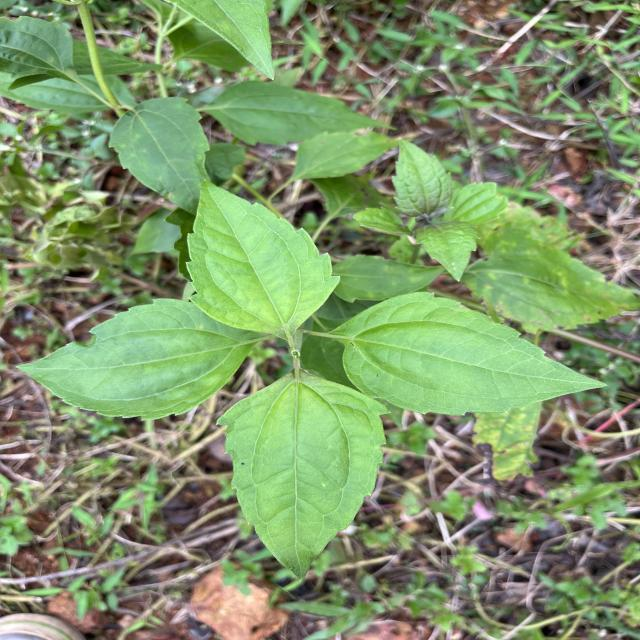Chromolaena odorata: (212, 364, 394, 584), (328, 287, 612, 418), (182, 168, 344, 344)
